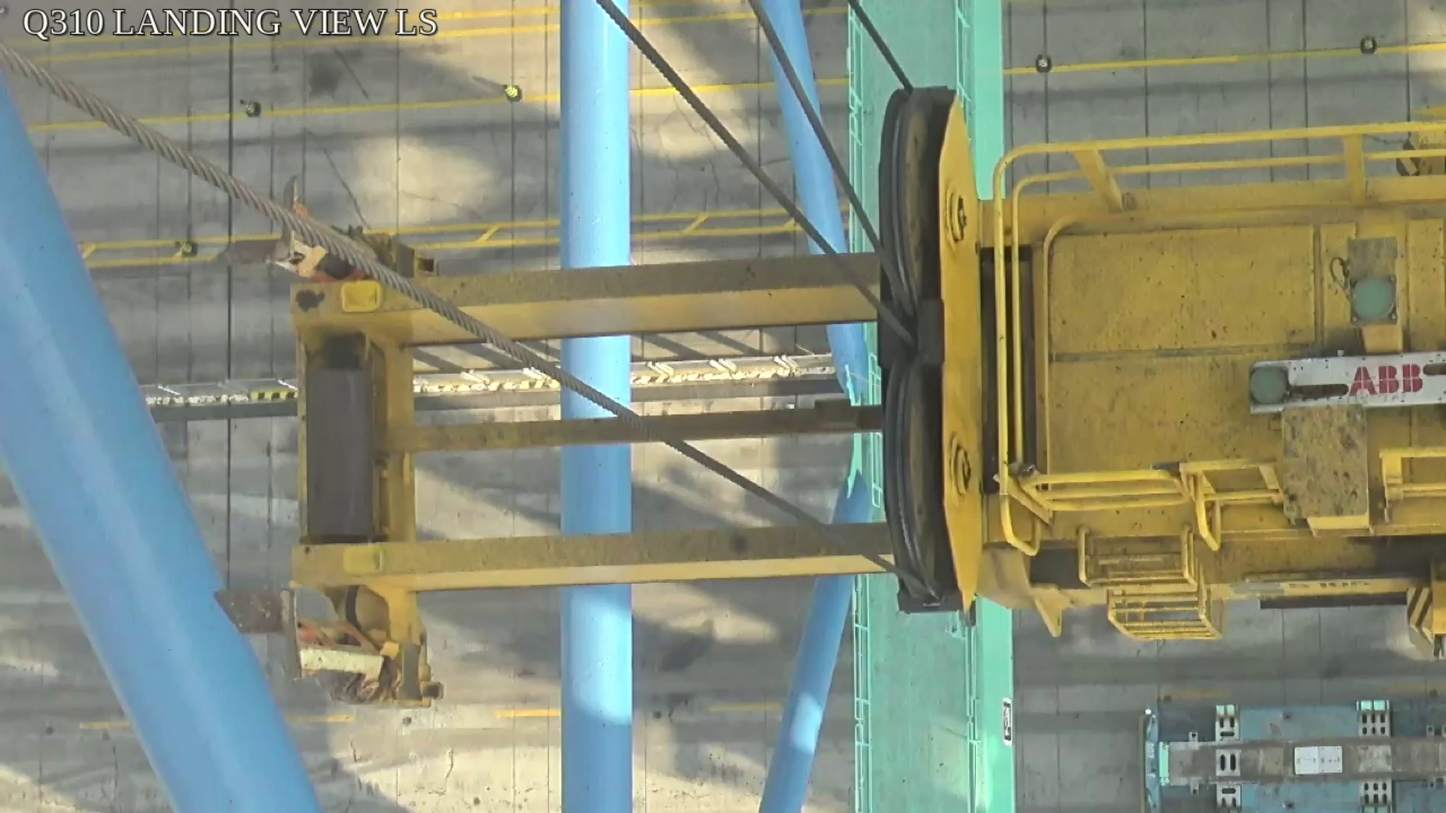aa: (879, 88, 981, 615)
